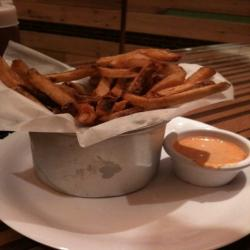fries: (9, 51, 216, 126)
